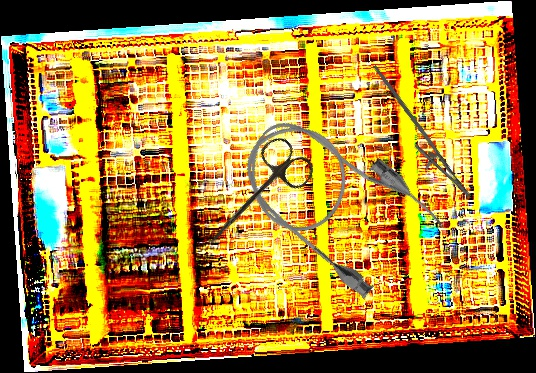Cannula: (222, 91, 449, 308)
Iris Scissors: (191, 131, 319, 265)
Needle Holder: (349, 64, 486, 207)
